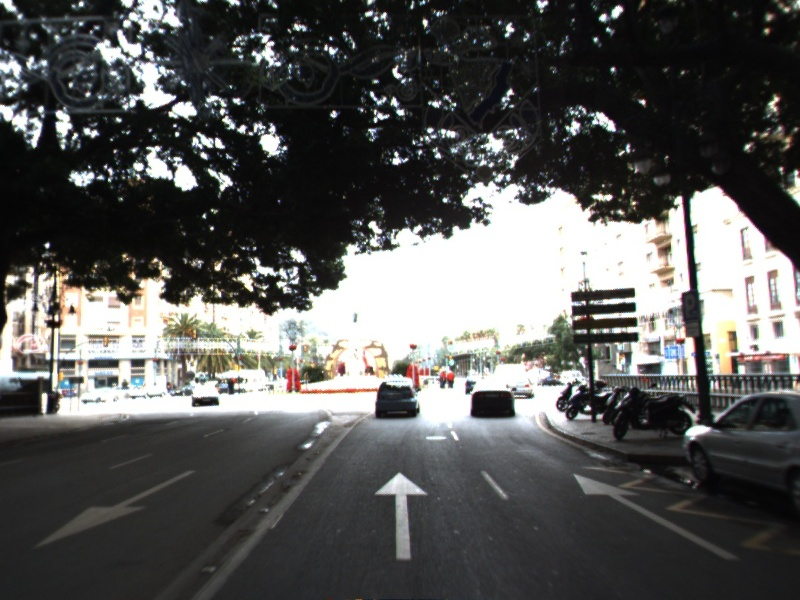STRAIGHT: (571, 471, 742, 563), (371, 469, 431, 562)
